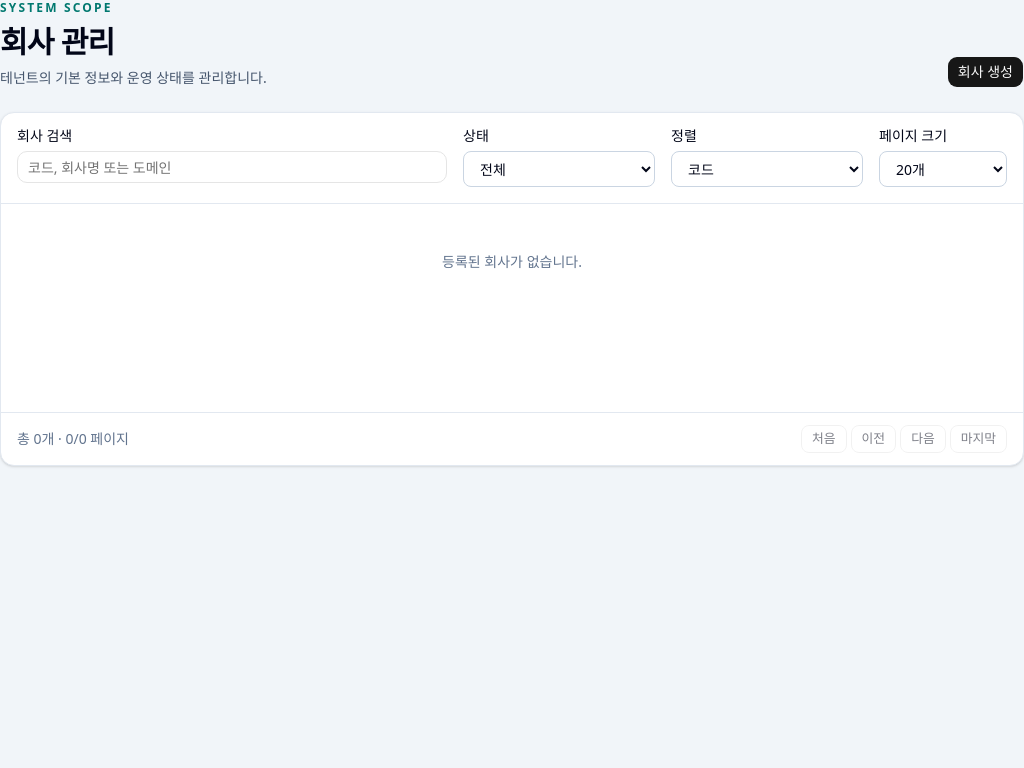
Test: CompanyPage › creates a normalized company, refreshes the list, and shows five default positions
Expected: the text "등록된 회사가 없습니다." is shown, [442, 252, 582, 271]
Step 1. Click the button "회사 생성" → (985, 72), box [947, 56, 1023, 88]
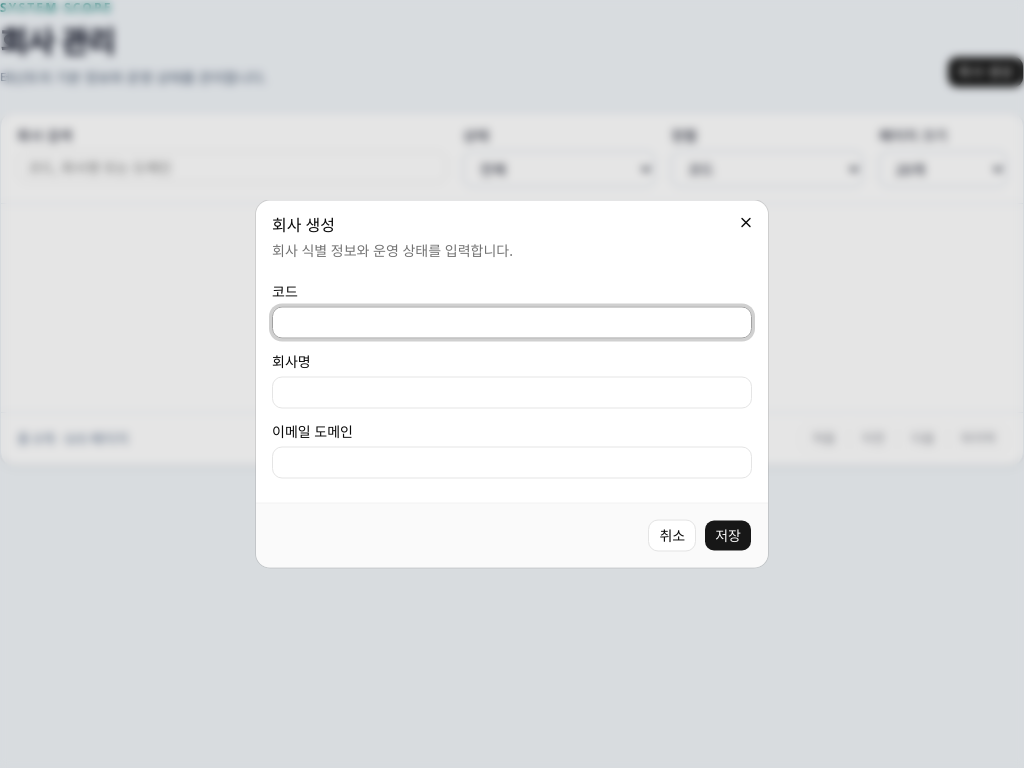
Step 2. Type " acme " into the field labelled "코드" → (512, 322), box [272, 306, 752, 338]
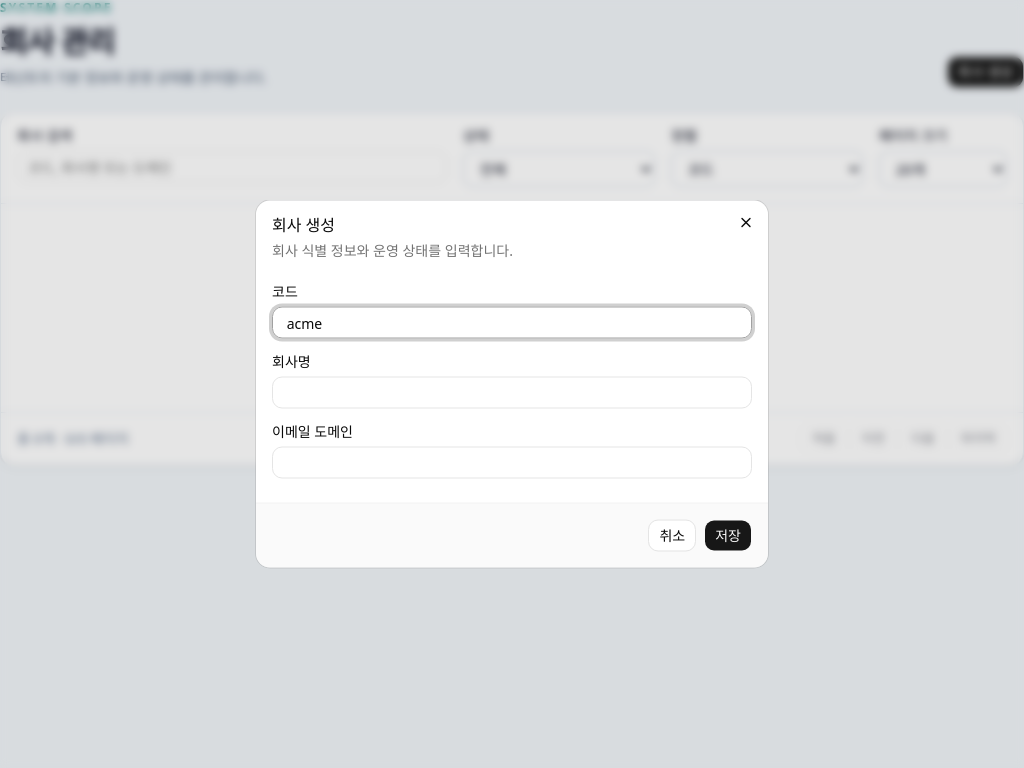
Step 3. Type "Acme" into the field labelled "회사명" → (512, 392), box [272, 376, 752, 408]
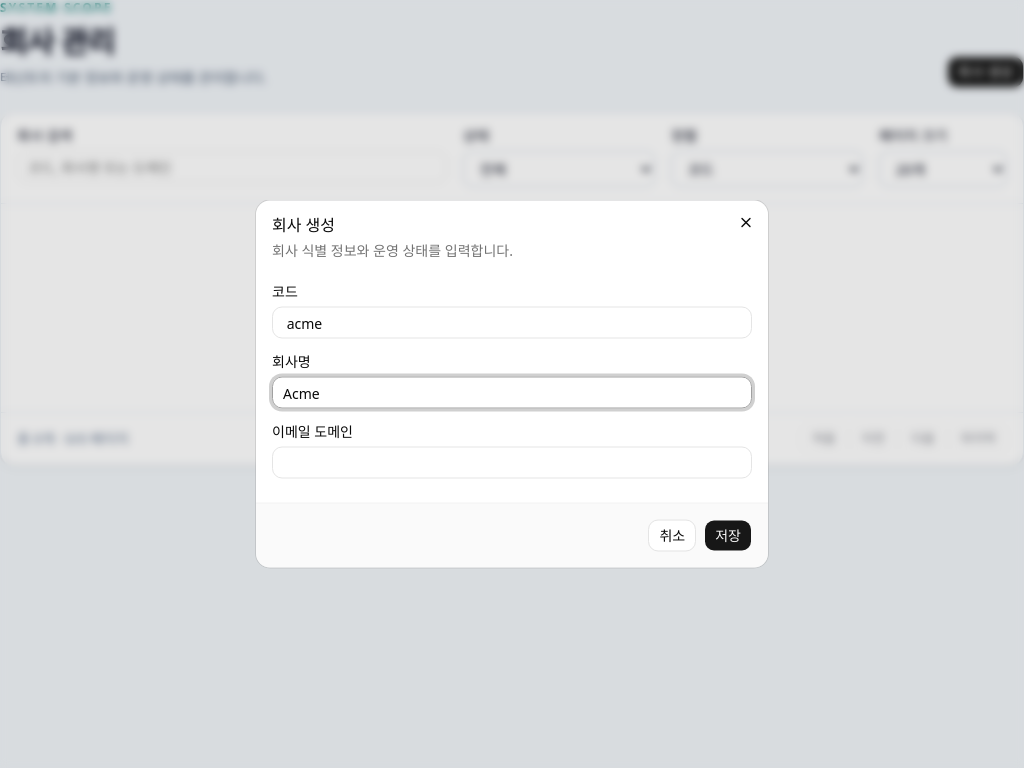
Step 4. Type "ACME.EXAMPLE" into the field labelled "이메일 도메인" → (512, 462), box [272, 446, 752, 478]
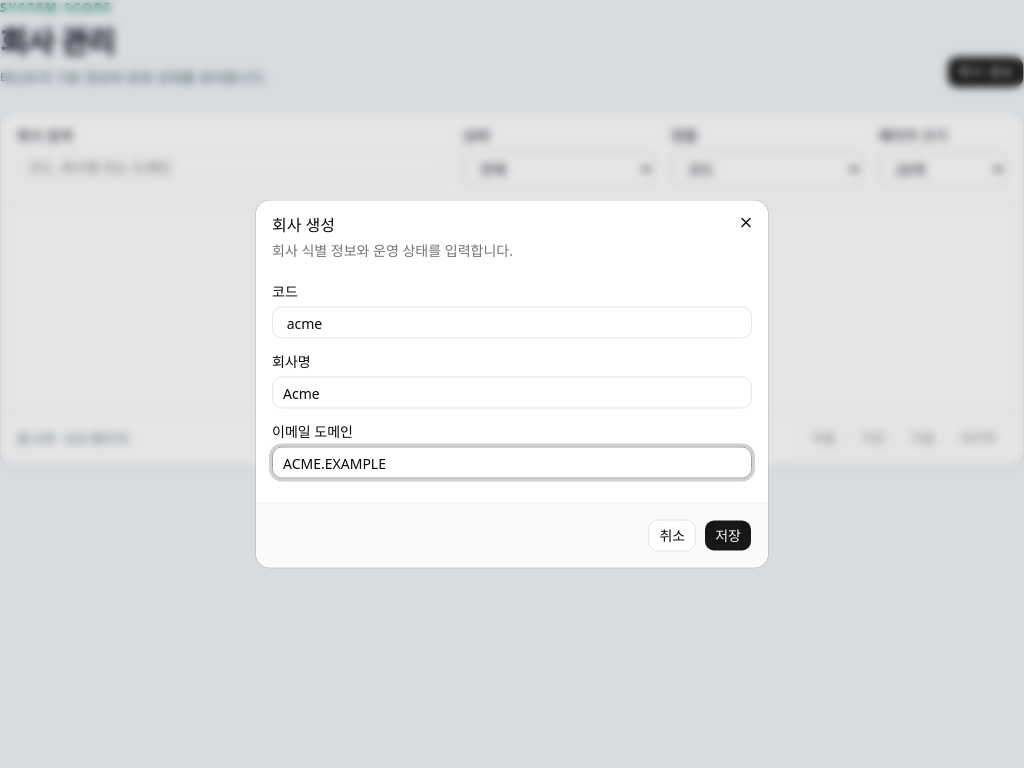
Step 5. Click the button "저장" → (728, 536), box [704, 520, 752, 552]
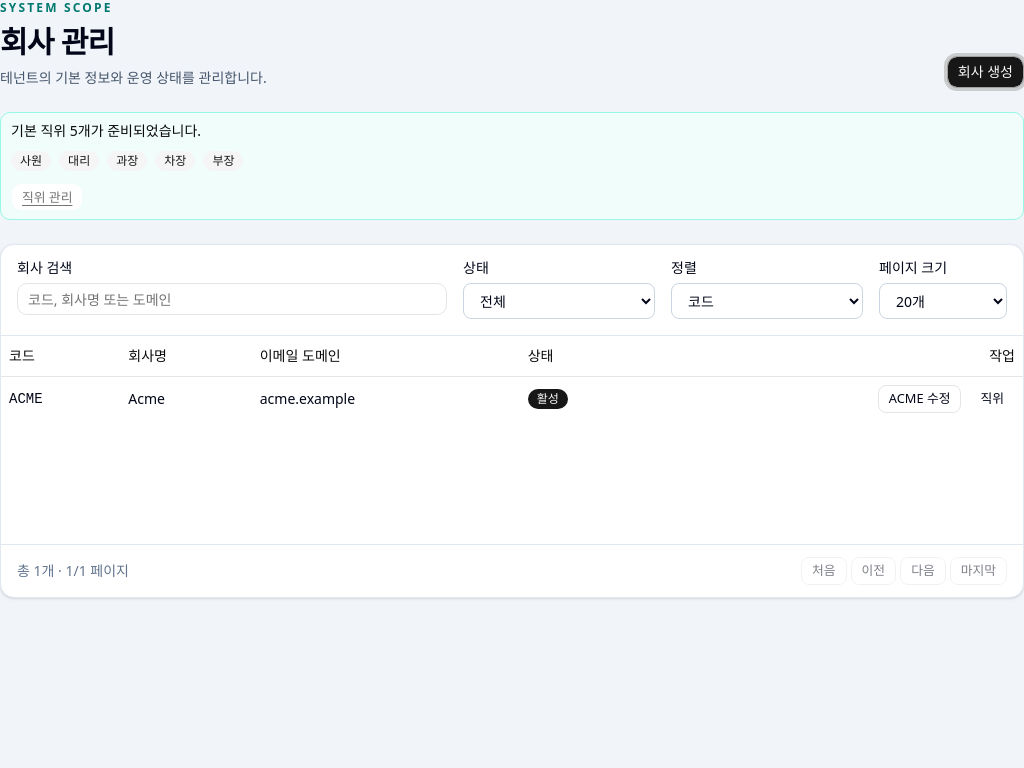
Now the cell "ACME" is shown, box [1, 376, 120, 420]
Now the text "기본 직위 5개가 준비되었습니다." is shown, box [11, 121, 201, 140]
Now the icon "사원" is shown, box [11, 151, 51, 171]
